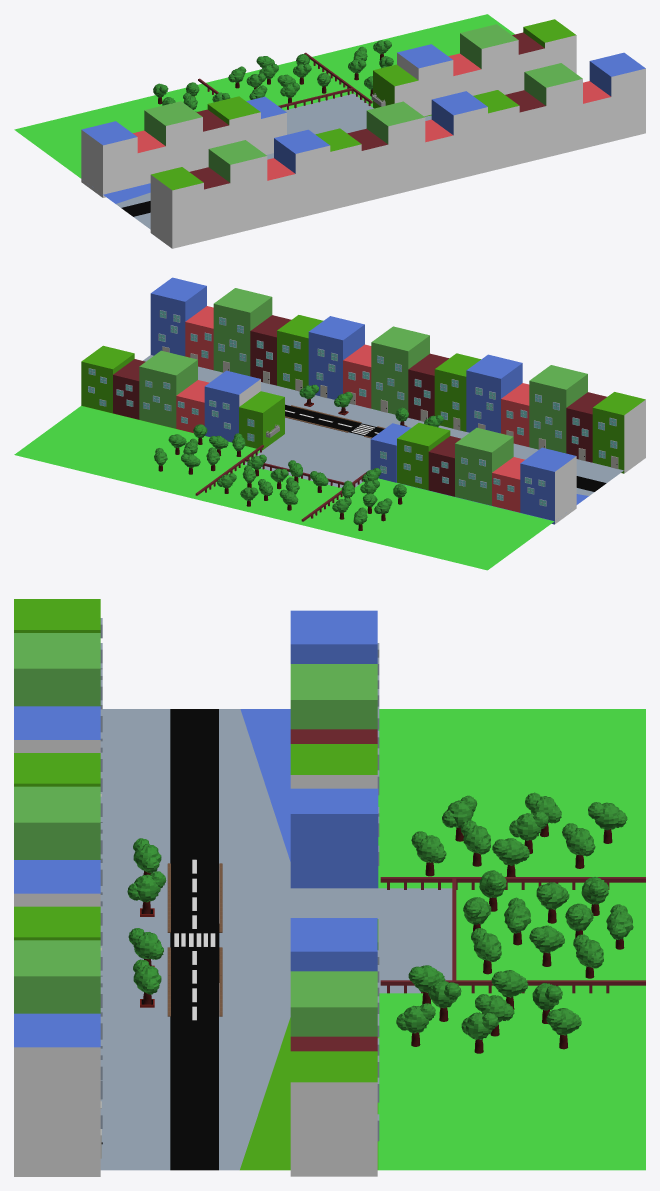
File: Outside.fbx
The picture shows the model from 3 angles, top to bottom: view 1: azimuth 30°, elevation 25°; view 2: azimuth 150°, elevation 25°; view 3: azimuth 270°, elevation 25°; orthographic projection. The views are drawn at different scales.
Parts seen in each view (by area): view 1: Cube.004; view 2: Cube.004; view 3: Cube.004.
Boxes of the visible parts, left/top/right/bottom form: Cube.004: left=14, top=14, right=645, bottom=248; Cube.004: left=14, top=277, right=645, bottom=570; Cube.004: left=14, top=599, right=645, bottom=1176.
Size of the model in its own units: 14863 by 2095 by 8609.
